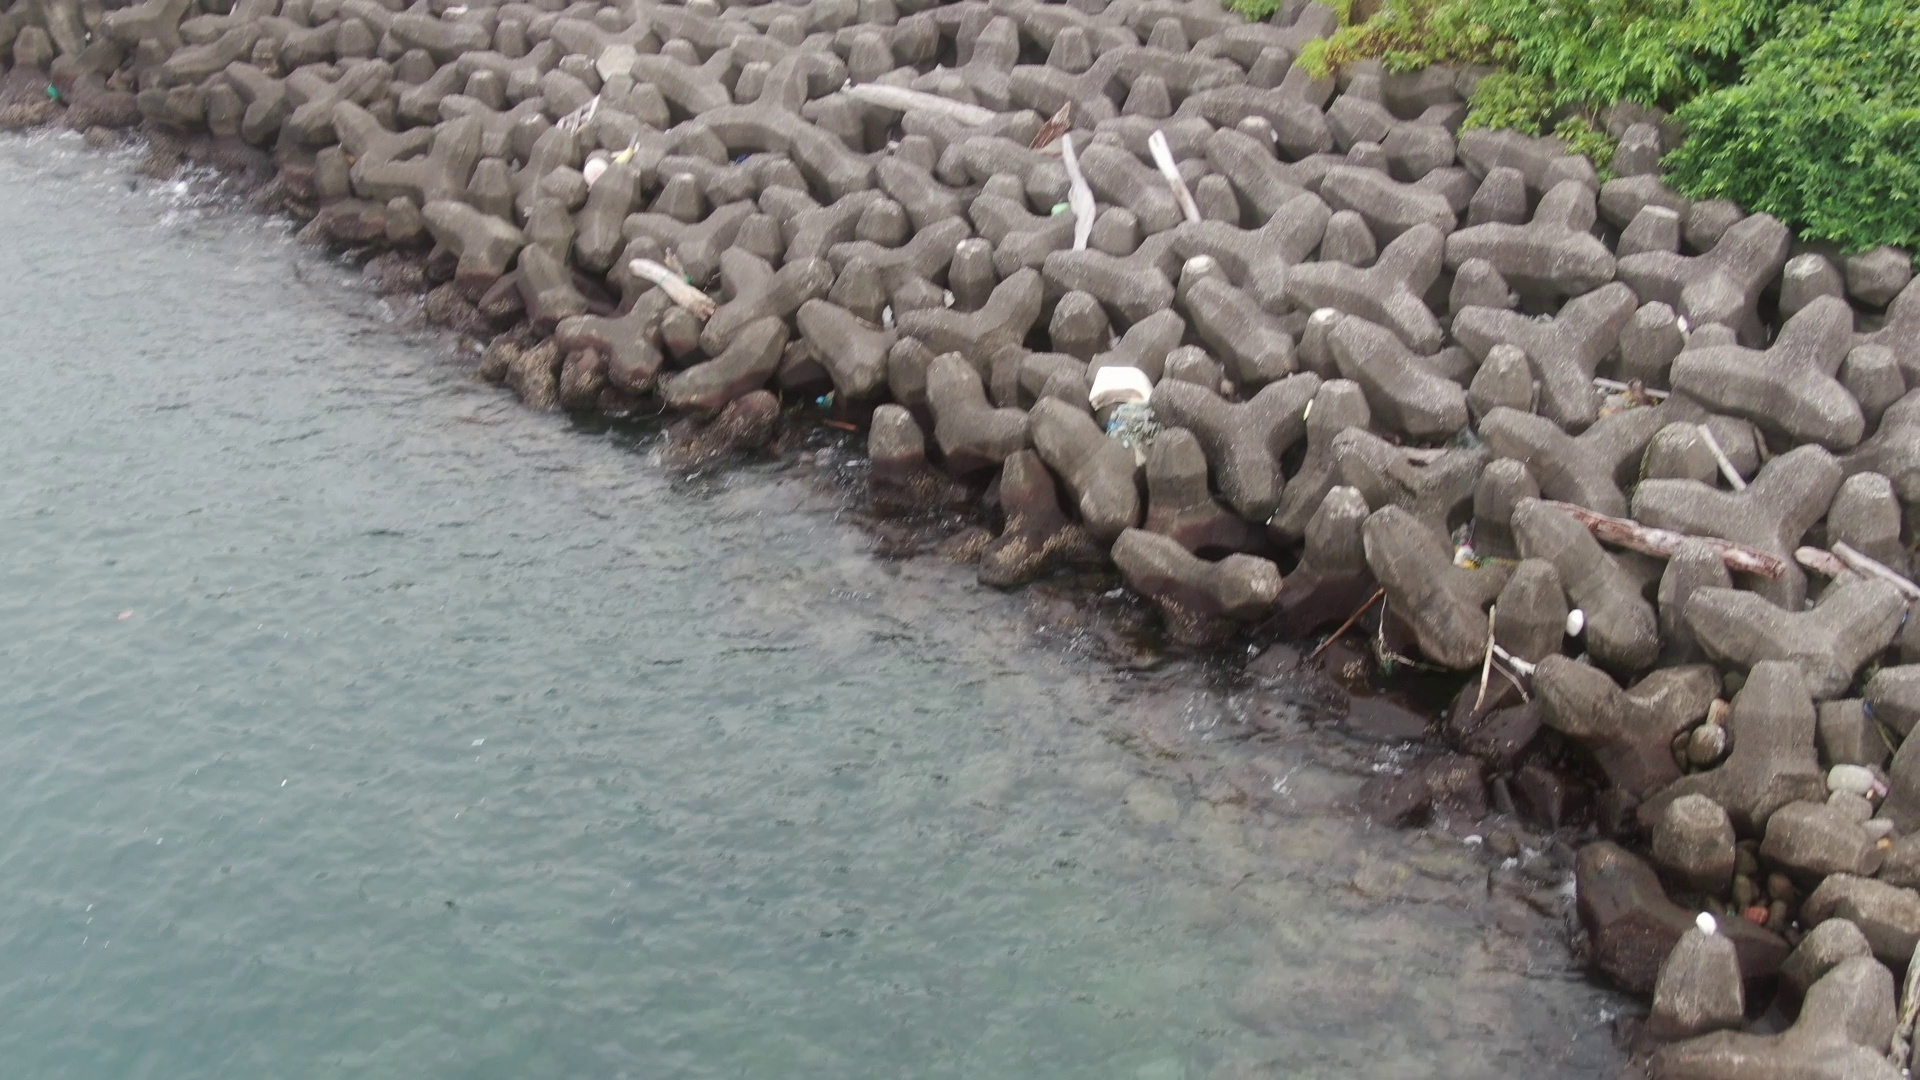garbage: (1083, 352, 1175, 472), (550, 95, 647, 193), (1451, 513, 1484, 583), (1687, 909, 1727, 951), (1563, 601, 1586, 642), (816, 386, 839, 411)
